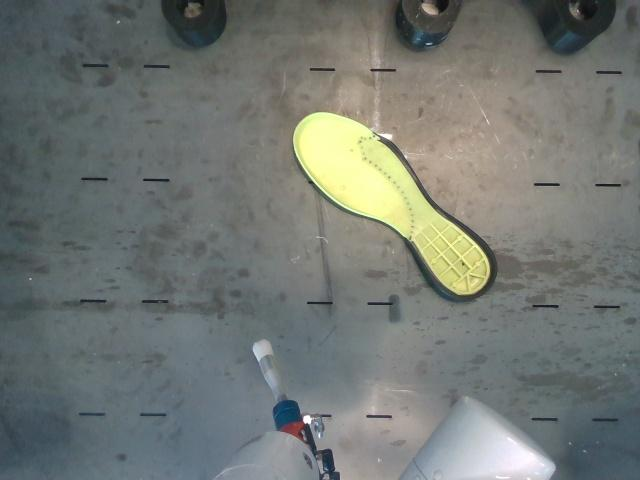shoes: (293, 112, 498, 301)
